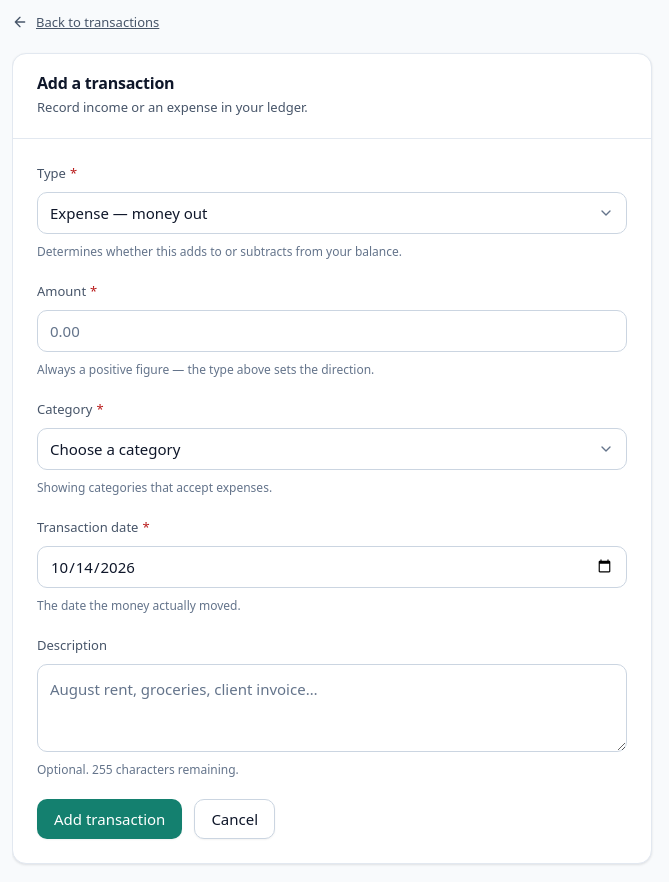
TransactionFormPage › requires a category
In the number field labelled "Amount *": (332, 331) x1=37 y1=310 x2=627 y2=352, type "100"
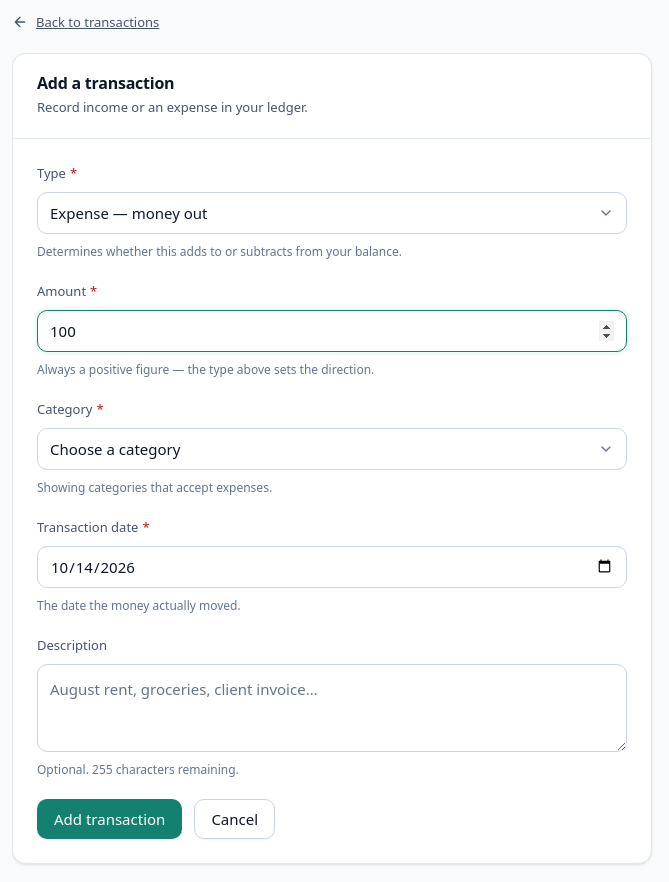
Click the button "Add transaction": (110, 819) x1=37 y1=799 x2=182 y2=839
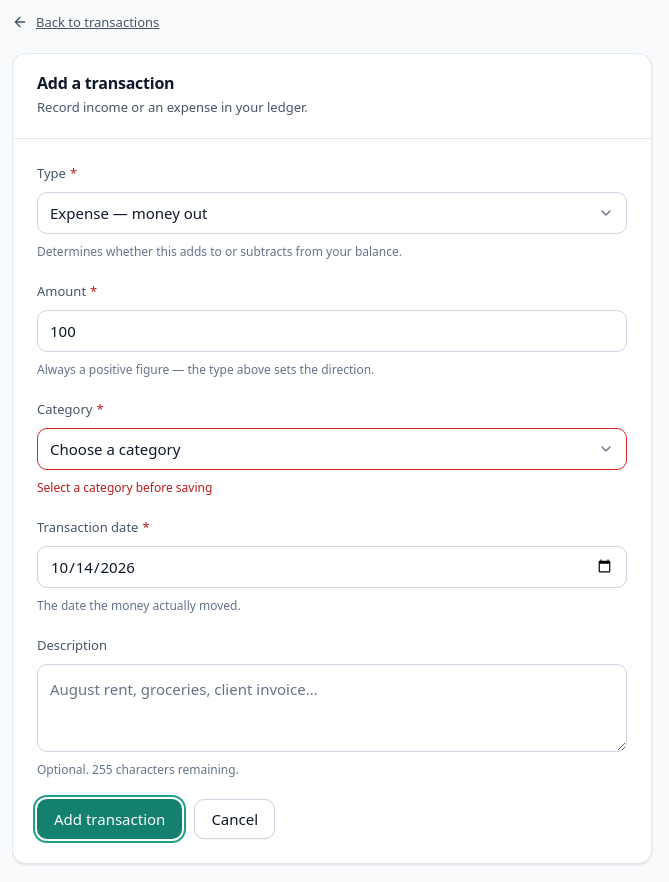
Now the text "Select a category before saving" is shown, box x1=37 y1=478 x2=212 y2=496
